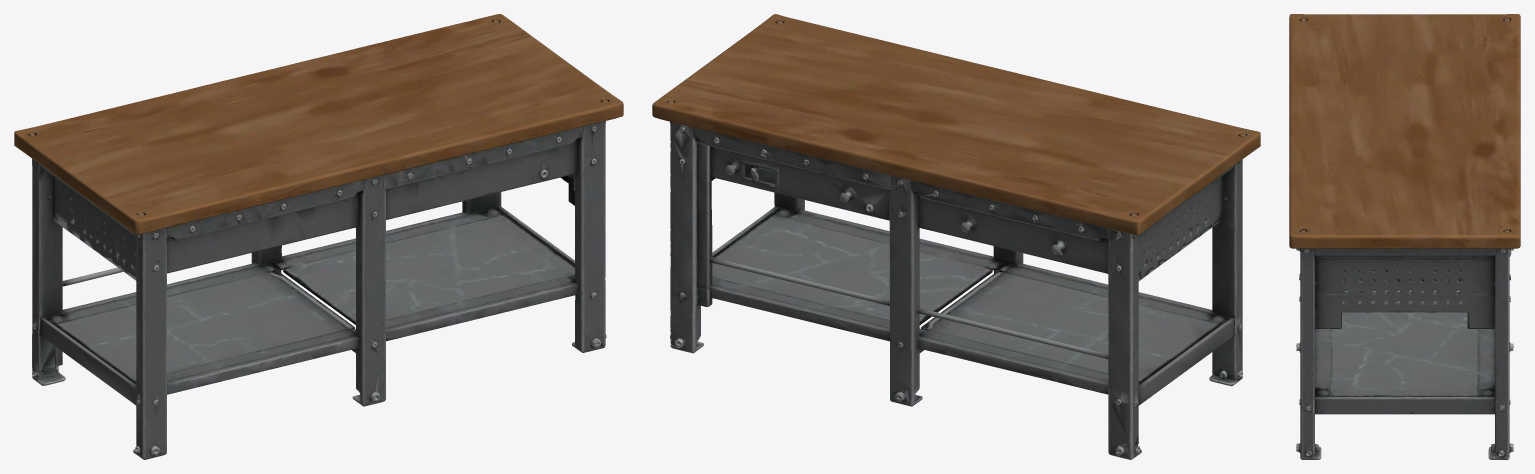
Rendered from Industrial Workbench.glb.
The picture shows the model from 3 angles, left to right: view 1: azimuth 30°, elevation 25°; view 2: azimuth 150°, elevation 25°; view 3: azimuth 270°, elevation 25°; orthographic projection. The views are drawn at different scales.
Visible parts, largest first — view 1: aiprintgen_node_0c9aa77d-753a-4131-8a52-8cf9054b86ff; view 2: aiprintgen_node_0c9aa77d-753a-4131-8a52-8cf9054b86ff; view 3: aiprintgen_node_0c9aa77d-753a-4131-8a52-8cf9054b86ff.
Boxes of the visible parts, <box> form: aiprintgen_node_0c9aa77d-753a-4131-8a52-8cf9054b86ff: <box>14,14,623,459</box>; aiprintgen_node_0c9aa77d-753a-4131-8a52-8cf9054b86ff: <box>652,14,1260,459</box>; aiprintgen_node_0c9aa77d-753a-4131-8a52-8cf9054b86ff: <box>1289,14,1520,459</box>.
Size of the model in its own units: 32124 by 15502 by 14095.
1 material, 1 textured.
